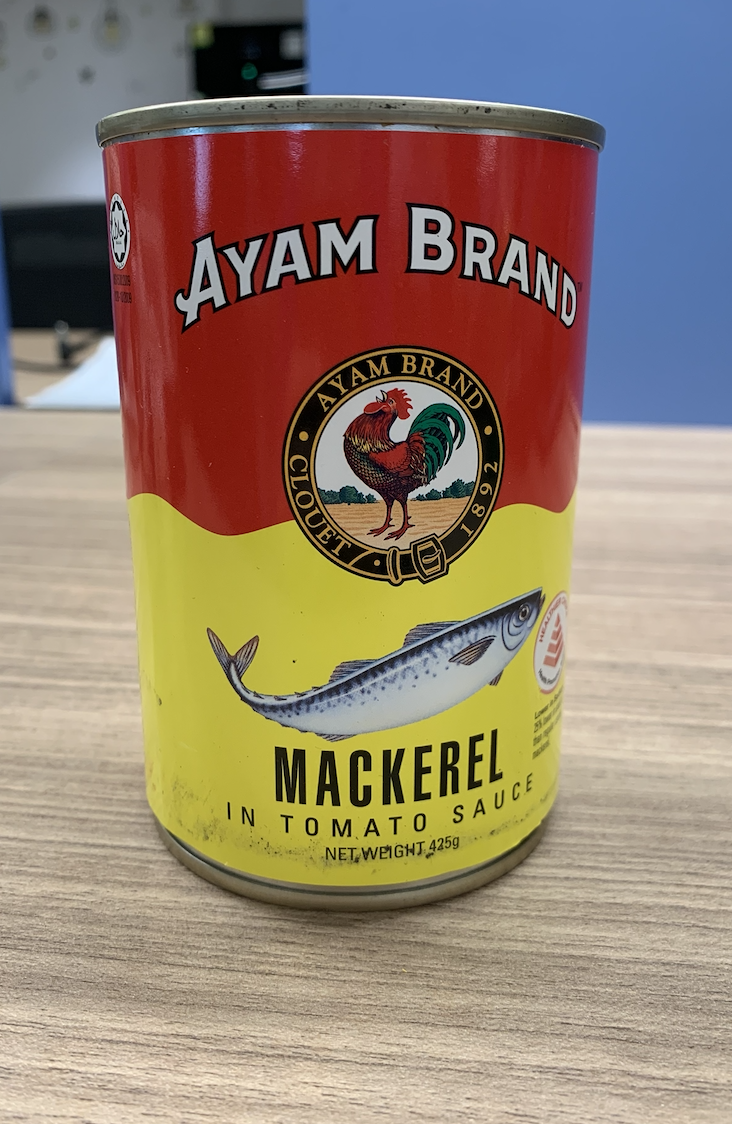sardines_450g: (152, 163, 554, 867)
